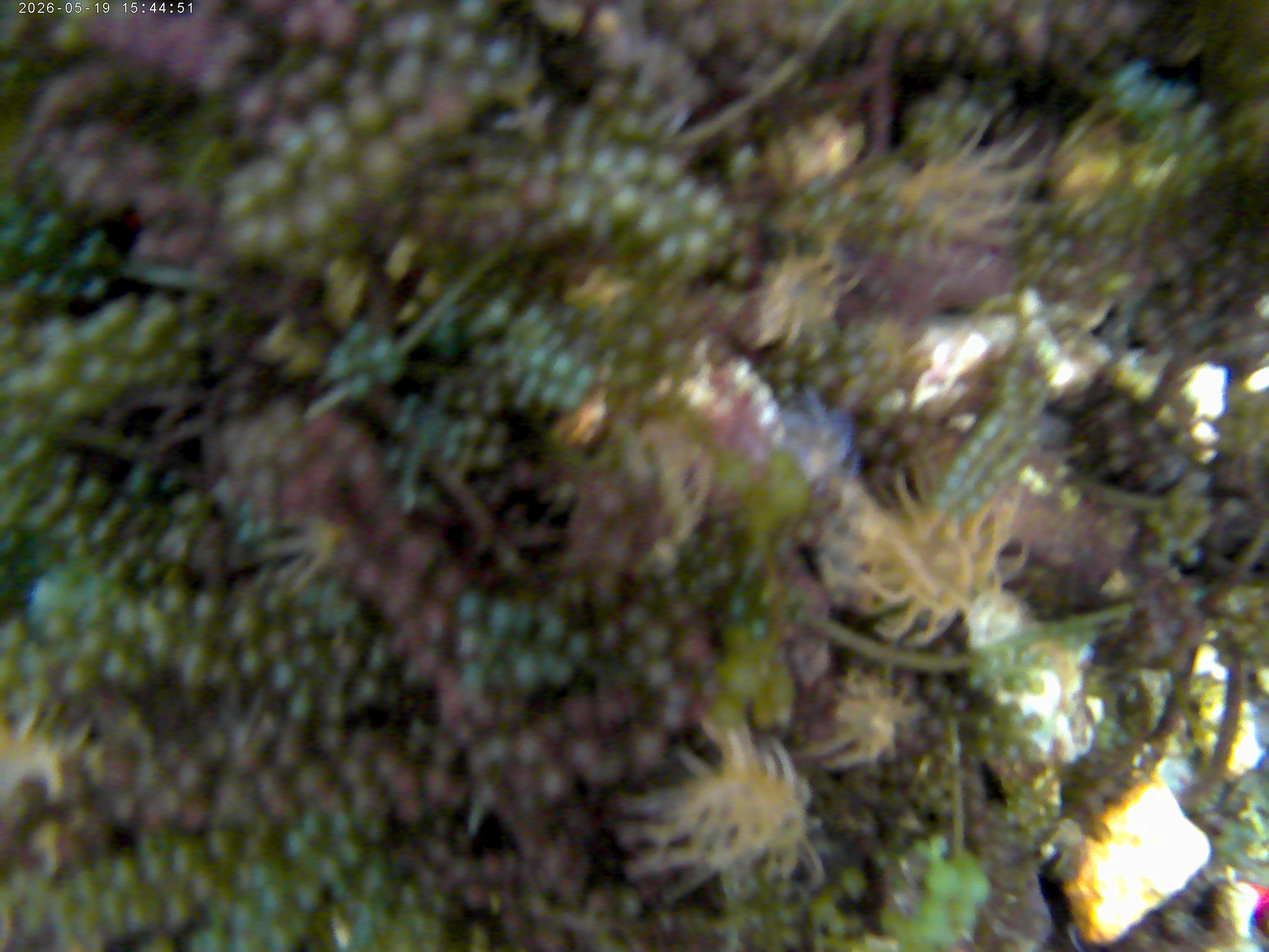Darkening: (429, 89, 473, 135), (358, 138, 400, 184), (380, 68, 423, 112), (347, 96, 388, 137), (282, 9, 320, 52), (397, 536, 435, 577), (162, 230, 198, 271), (427, 770, 463, 810), (196, 247, 230, 289), (320, 13, 361, 47), (591, 694, 630, 729), (633, 729, 666, 770), (354, 561, 386, 600), (538, 766, 573, 801), (279, 73, 313, 109), (395, 109, 429, 145), (593, 751, 627, 786), (444, 31, 475, 68), (386, 581, 419, 615), (432, 569, 466, 602), (237, 89, 272, 120), (436, 692, 467, 725), (401, 800, 433, 831), (354, 736, 385, 768), (462, 75, 494, 106), (569, 698, 597, 733), (139, 189, 169, 221), (516, 731, 545, 764), (349, 484, 381, 513), (569, 737, 599, 767), (352, 787, 379, 819), (306, 462, 334, 492), (377, 524, 407, 551), (423, 599, 449, 630), (134, 233, 160, 264), (729, 255, 756, 284), (345, 75, 379, 98), (183, 808, 211, 835), (646, 659, 674, 686), (151, 811, 178, 839), (390, 778, 419, 804), (376, 753, 402, 782), (257, 767, 281, 798), (211, 477, 238, 504), (140, 801, 167, 828), (301, 768, 325, 798), (426, 840, 450, 870), (445, 858, 471, 885), (644, 625, 671, 651), (476, 855, 501, 883), (933, 31, 958, 59), (280, 479, 304, 508), (339, 758, 365, 784), (415, 647, 441, 672), (465, 886, 490, 912), (319, 726, 345, 751), (731, 228, 757, 253), (323, 794, 350, 818), (263, 629, 288, 654), (661, 706, 686, 731), (625, 604, 649, 629), (414, 864, 438, 889), (1221, 497, 1247, 520), (479, 444, 503, 468), (486, 736, 510, 760), (943, 76, 967, 100), (336, 644, 359, 669), (499, 549, 521, 574), (858, 428, 881, 451), (671, 600, 694, 623), (1109, 431, 1133, 453), (600, 624, 622, 647), (465, 415, 487, 438), (796, 521, 818, 544), (528, 896, 550, 919), (481, 392, 503, 414), (901, 421, 922, 444), (457, 388, 478, 410), (298, 645, 319, 667), (408, 719, 429, 741), (501, 854, 519, 879), (556, 480, 577, 501), (626, 645, 646, 666), (926, 717, 946, 738), (292, 618, 312, 638), (1109, 453, 1130, 472), (1140, 420, 1159, 440), (658, 912, 676, 933), (490, 422, 509, 441), (880, 440, 899, 459), (713, 520, 730, 537), (952, 696, 968, 712), (901, 761, 917, 777), (887, 767, 901, 783)
Harvestable: (258, 209, 293, 255), (293, 197, 332, 237), (316, 131, 354, 169), (47, 18, 83, 54), (327, 177, 361, 213), (25, 362, 61, 396), (276, 127, 310, 161), (678, 225, 713, 257), (257, 163, 290, 196), (486, 40, 519, 73), (649, 155, 680, 190), (227, 169, 262, 199), (99, 299, 132, 330), (951, 100, 982, 133), (588, 213, 617, 247), (634, 206, 662, 241), (692, 187, 720, 222), (79, 353, 109, 385), (620, 148, 648, 182), (222, 197, 253, 226), (1224, 586, 1253, 616), (229, 900, 257, 931), (611, 186, 638, 218), (409, 16, 436, 48), (181, 648, 203, 687), (285, 910, 311, 943), (206, 829, 234, 859), (484, 298, 512, 327), (486, 39, 514, 68), (287, 830, 314, 860), (656, 233, 683, 263), (964, 874, 991, 904), (0, 620, 27, 650), (840, 869, 868, 897), (61, 665, 89, 693), (488, 602, 515, 631), (189, 872, 216, 901), (591, 149, 616, 180), (100, 651, 125, 682), (39, 321, 70, 346), (566, 199, 590, 231), (616, 110, 643, 138), (56, 390, 85, 416), (551, 350, 577, 379), (79, 631, 105, 660), (660, 340, 689, 366), (139, 854, 165, 883), (5, 366, 30, 396), (230, 229, 256, 257), (177, 848, 202, 877), (514, 655, 539, 684), (461, 661, 486, 690), (811, 897, 837, 924), (368, 337, 395, 363), (360, 867, 386, 894), (138, 603, 165, 629), (234, 649, 259, 677), (174, 492, 202, 517), (114, 606, 139, 634), (20, 653, 48, 678), (398, 50, 424, 76), (66, 875, 93, 900), (161, 586, 186, 613), (673, 176, 698, 203), (272, 661, 296, 689), (165, 897, 188, 926), (110, 859, 133, 888), (301, 161, 327, 186), (133, 359, 158, 385), (295, 884, 320, 910), (121, 902, 145, 929), (458, 593, 482, 620), (307, 809, 330, 837), (539, 380, 564, 405), (57, 514, 82, 539), (228, 609, 252, 635), (109, 360, 133, 386), (574, 364, 598, 390), (288, 693, 312, 719), (457, 627, 481, 653), (146, 633, 170, 659), (542, 615, 565, 642), (457, 0, 486, 21), (567, 632, 591, 657), (560, 387, 584, 412), (317, 858, 341, 883), (27, 679, 52, 703), (79, 320, 102, 346), (526, 344, 549, 370), (69, 910, 96, 932), (562, 149, 586, 173), (79, 477, 102, 502), (46, 617, 71, 640), (26, 506, 51, 529), (711, 212, 733, 238), (250, 861, 272, 887), (97, 892, 120, 916), (356, 677, 379, 701), (1186, 470, 1210, 493), (348, 321, 371, 345), (550, 662, 573, 686), (209, 659, 232, 683), (313, 111, 336, 135), (635, 255, 658, 279), (234, 867, 255, 893), (377, 361, 403, 382), (366, 642, 385, 670), (259, 885, 282, 908), (177, 327, 200, 350), (261, 910, 283, 934), (748, 617, 770, 641), (350, 372, 372, 396), (828, 914, 850, 938), (337, 838, 359, 861), (712, 560, 735, 582), (779, 927, 802, 949), (1245, 637, 1268, 659), (127, 470, 149, 493), (49, 484, 71, 507), (334, 813, 355, 837), (399, 884, 420, 908), (264, 589, 285, 613), (530, 320, 552, 342), (195, 597, 216, 620), (365, 819, 386, 842), (136, 560, 157, 582), (942, 472, 964, 493), (807, 175, 829, 196), (275, 928, 294, 952), (525, 304, 546, 325), (85, 277, 106, 298), (710, 244, 730, 266), (92, 519, 112, 541), (40, 212, 62, 232), (27, 234, 48, 254), (232, 931, 258, 947), (729, 598, 749, 618), (612, 259, 632, 279), (952, 454, 971, 474), (384, 448, 403, 468), (1185, 585, 1206, 603), (964, 494, 983, 513), (158, 351, 178, 369), (966, 440, 984, 460), (874, 850, 892, 869), (504, 282, 523, 300), (778, 382, 796, 401), (1183, 547, 1201, 565), (968, 672, 986, 690), (979, 480, 997, 498), (448, 422, 466, 440), (949, 0, 973, 13), (1160, 536, 1178, 553), (1252, 607, 1269, 625), (927, 784, 944, 801)
Whitening: (758, 403, 778, 425), (753, 384, 773, 405)
